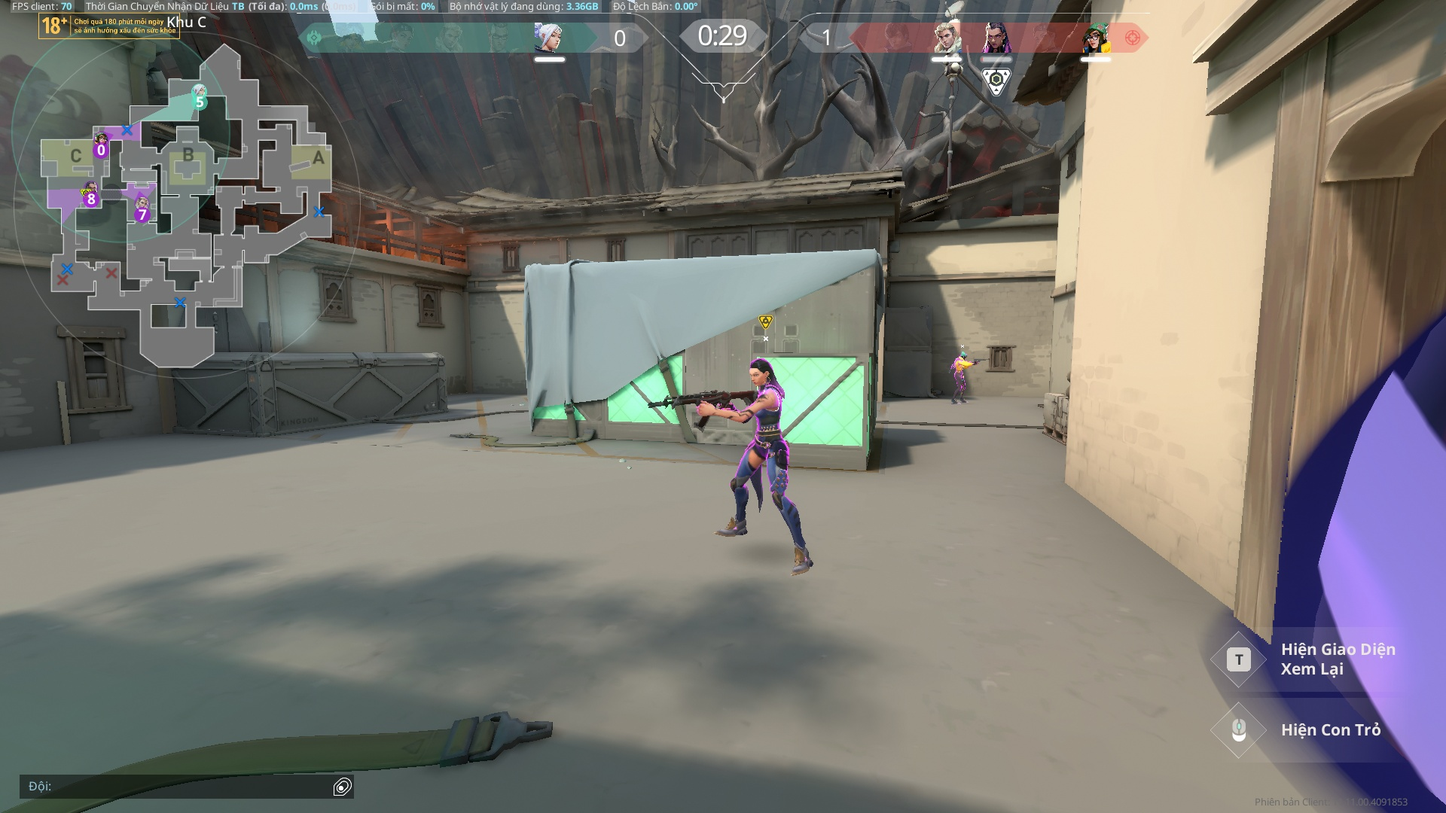body: (753, 387, 785, 434), (953, 356, 965, 370)
head: (746, 358, 776, 388), (959, 352, 966, 360)
